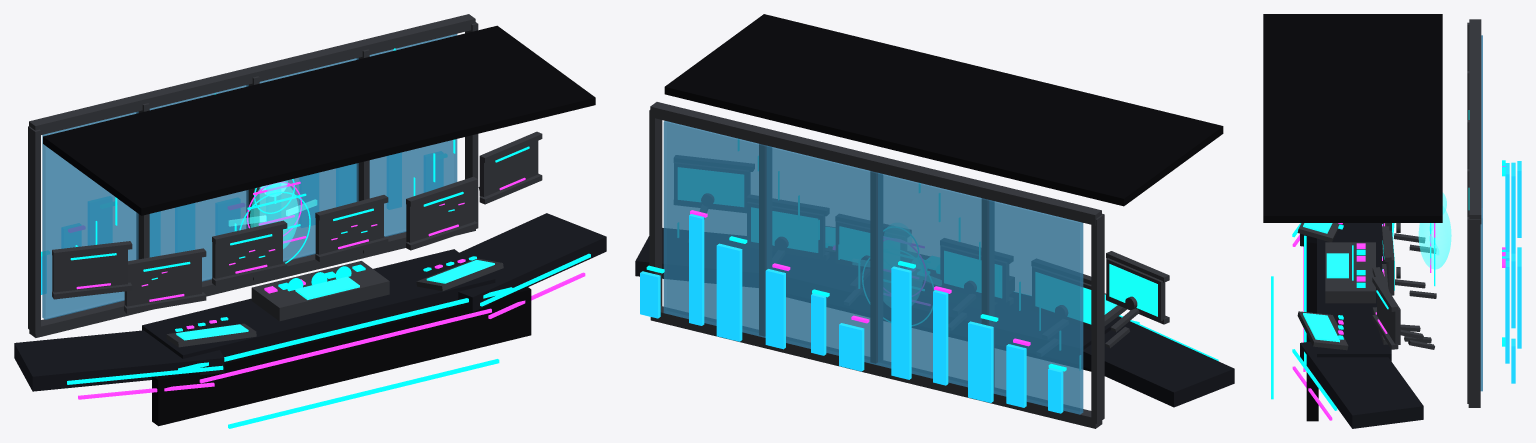
The model's file is boardroom_composite_iter01.glb.
The picture shows the model from 3 angles, left to right: view 1: azimuth 30°, elevation 25°; view 2: azimuth 150°, elevation 25°; view 3: azimuth 270°, elevation 25°; orthographic projection. The views are drawn at different scales.
Visible parts, largest first — view 1: ceiling_black_tech_frame, panoramic_curved_window_glass_center, front_drop_black_recess, c_wrap_center_glossy_desk_slab, c_wrap_left_wing_glossy_desk_slab, panoramic_window_top_frame, c_wrap_right_wing_glossy_desk_slab, panoramic_window_bottom_frame, raised_central_control_console_body, window_vertical_frame_-3.08, desk_left_monitor_rugged_graphite_bezel_frame, upper_left_articulated_monitor_rugged_graphite_bezel_frame (+37 smaller); view 2: panoramic_curved_window_glass_center, ceiling_black_tech_frame, panoramic_window_top_frame, c_wrap_center_glossy_desk_slab, c_wrap_left_wing_glossy_desk_slab, panoramic_window_bottom_frame, c_wrap_right_wing_glossy_desk_slab, window_vertical_frame_-3.08, distant_city_tower_08, window_vertical_frame_+0.00, distant_city_tower_04, window_vertical_frame_+3.08 (+23 smaller); view 3: ceiling_black_tech_frame, c_wrap_right_wing_glossy_desk_slab, c_wrap_center_glossy_desk_slab, panoramic_window_top_frame, window_vertical_frame_+3.08, raised_central_control_console_body, front_drop_black_recess, hologram_torso_feminine_presence_shell, panoramic_curved_window_glass_center, upper_right_articulated_monitor_rugged_graphite_bezel_frame, right_sloped_touch_tablet_screen, right_sloped_touch_tablet_body (+16 smaller).
Part boxes in pixels (x1,y1,x2,y2): ceiling_black_tech_frame: (43, 25, 595, 215); panoramic_curved_window_glass_center: (42, 34, 457, 319); front_drop_black_recess: (152, 286, 531, 426); c_wrap_center_glossy_desk_slab: (142, 249, 495, 358); c_wrap_left_wing_glossy_desk_slab: (14, 330, 224, 391); panoramic_window_top_frame: (29, 14, 475, 134); c_wrap_right_wing_glossy_desk_slab: (458, 213, 606, 312); panoramic_window_bottom_frame: (29, 229, 475, 337); raised_central_control_console_body: (251, 261, 389, 321); window_vertical_frame_-3.08: (28, 126, 40, 333); desk_left_monitor_rugged_graphite_bezel_frame: (124, 257, 201, 306); upper_left_articulated_monitor_rugged_graphite_bezel_frame: (52, 249, 127, 292); panoramic_curved_window_glass_center: (663, 121, 1083, 414); ceiling_black_tech_frame: (664, 14, 1223, 206); panoramic_window_top_frame: (650, 102, 1101, 225); c_wrap_center_glossy_desk_slab: (775, 255, 1120, 363); c_wrap_left_wing_glossy_desk_slab: (1082, 316, 1234, 407); panoramic_window_bottom_frame: (650, 306, 1102, 428); c_wrap_right_wing_glossy_desk_slab: (635, 228, 786, 287); window_vertical_frame_-3.08: (1091, 213, 1104, 423); distant_city_tower_08: (716, 243, 742, 341); window_vertical_frame_+0.00: (870, 171, 882, 369); distant_city_tower_04: (891, 266, 911, 379); window_vertical_frame_+3.08: (649, 110, 662, 306); ceiling_black_tech_frame: (1263, 14, 1442, 222); c_wrap_right_wing_glossy_desk_slab: (1300, 341, 1423, 428); c_wrap_center_glossy_desk_slab: (1317, 223, 1391, 361); panoramic_window_top_frame: (1469, 19, 1481, 223); window_vertical_frame_+3.08: (1467, 217, 1480, 403); raised_central_control_console_body: (1325, 242, 1375, 303); front_drop_black_recess: (1306, 242, 1318, 421); hologram_torso_feminine_presence_shell: (1418, 206, 1451, 269); panoramic_curved_window_glass_center: (1480, 35, 1482, 391); upper_right_articulated_monitor_rugged_graphite_bezel_frame: (1377, 281, 1400, 344); right_sloped_touch_tablet_screen: (1303, 313, 1339, 342); right_sloped_touch_tablet_body: (1297, 311, 1348, 350).
Bounding box in the file's own units: 8.09 × 3.31 × 3.46.
